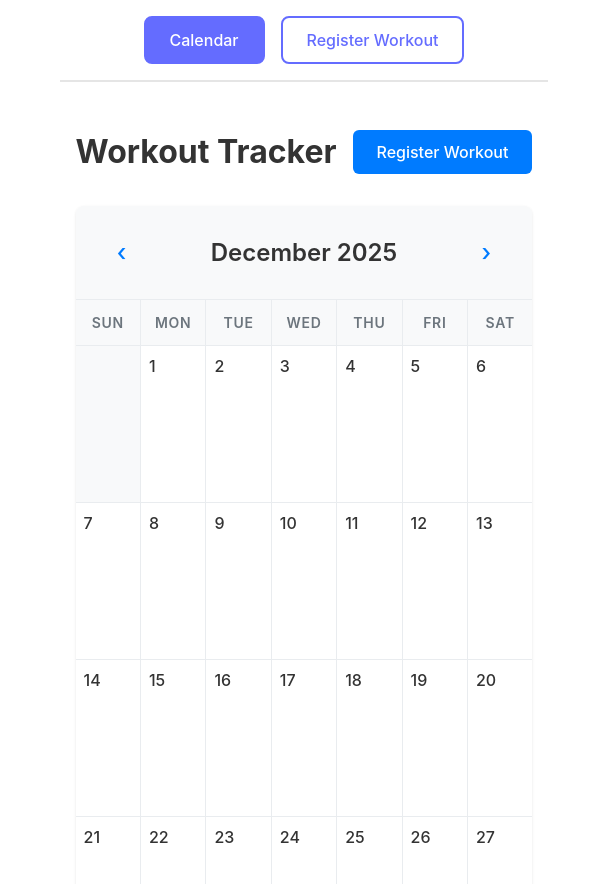
Workout Tracker Integration Tests › Error Handling › should handle form validation errors
Note: Navigate to registration
Click the button "Register Workout" next to "Workout Tracker": click(442, 152) [352, 130, 532, 174]
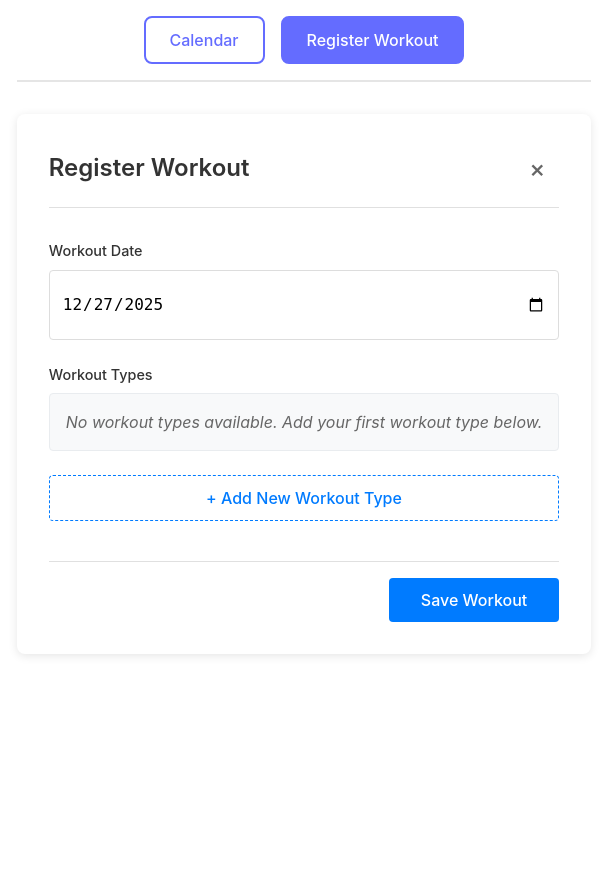
Note: Try to submit without selecting workout types
Click the button "Save Workout": click(474, 600) [389, 578, 559, 622]
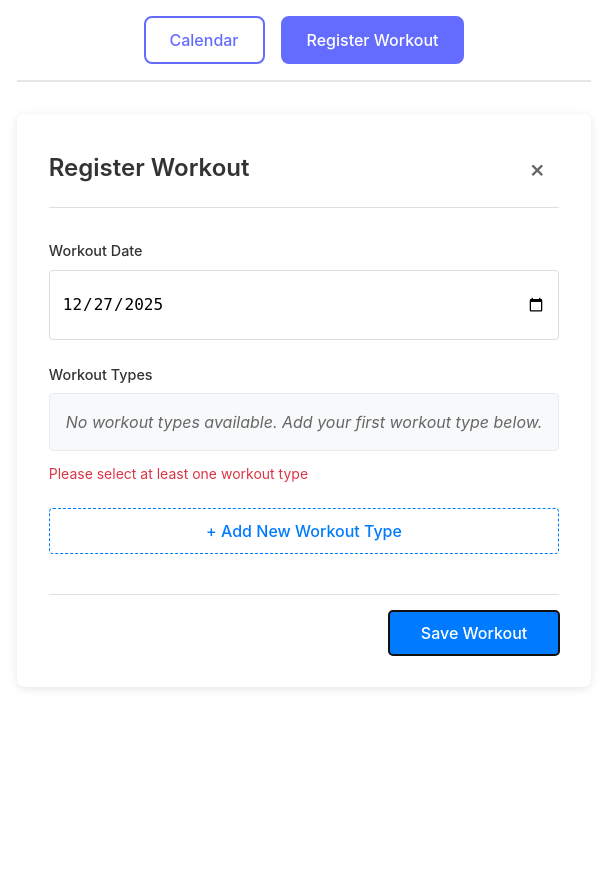
expect the heading "Register Workout" is shown: met, box [49, 155, 250, 182]
expect the text "Please select at least one workout type" is shown: met, box [49, 465, 308, 482]
